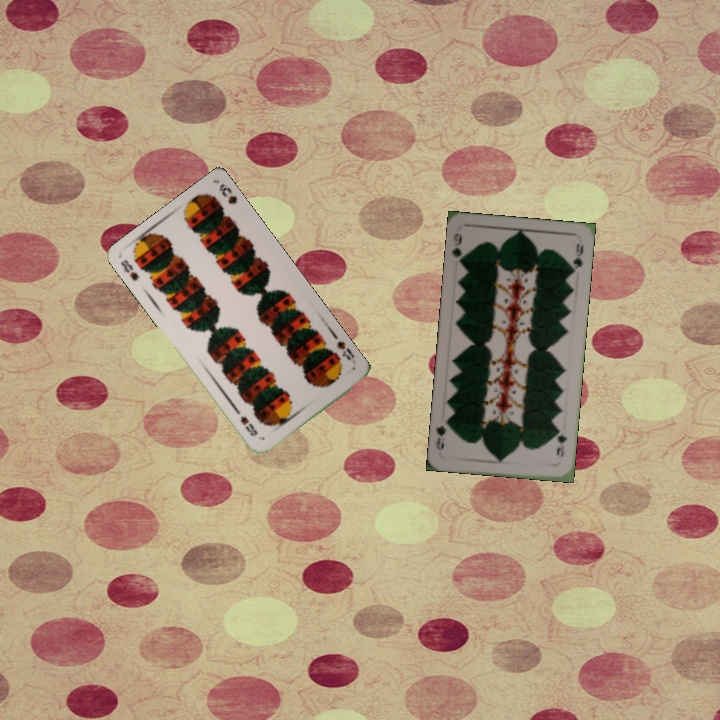G9: (447, 229, 467, 268), (552, 424, 569, 460)
S8: (116, 255, 142, 283), (332, 337, 357, 363)
